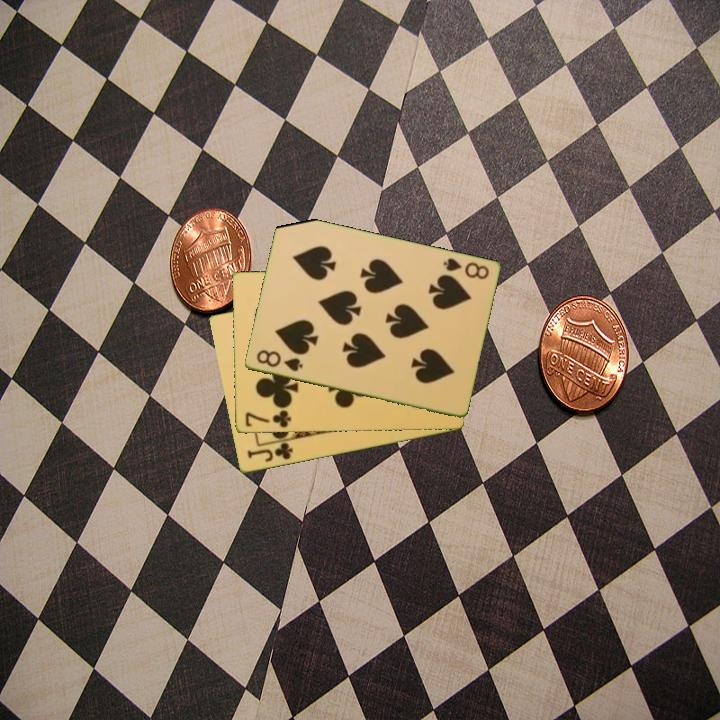7c: (241, 407, 294, 431)
8s: (439, 254, 491, 283), (253, 346, 305, 374)
Jc: (243, 439, 296, 465)
